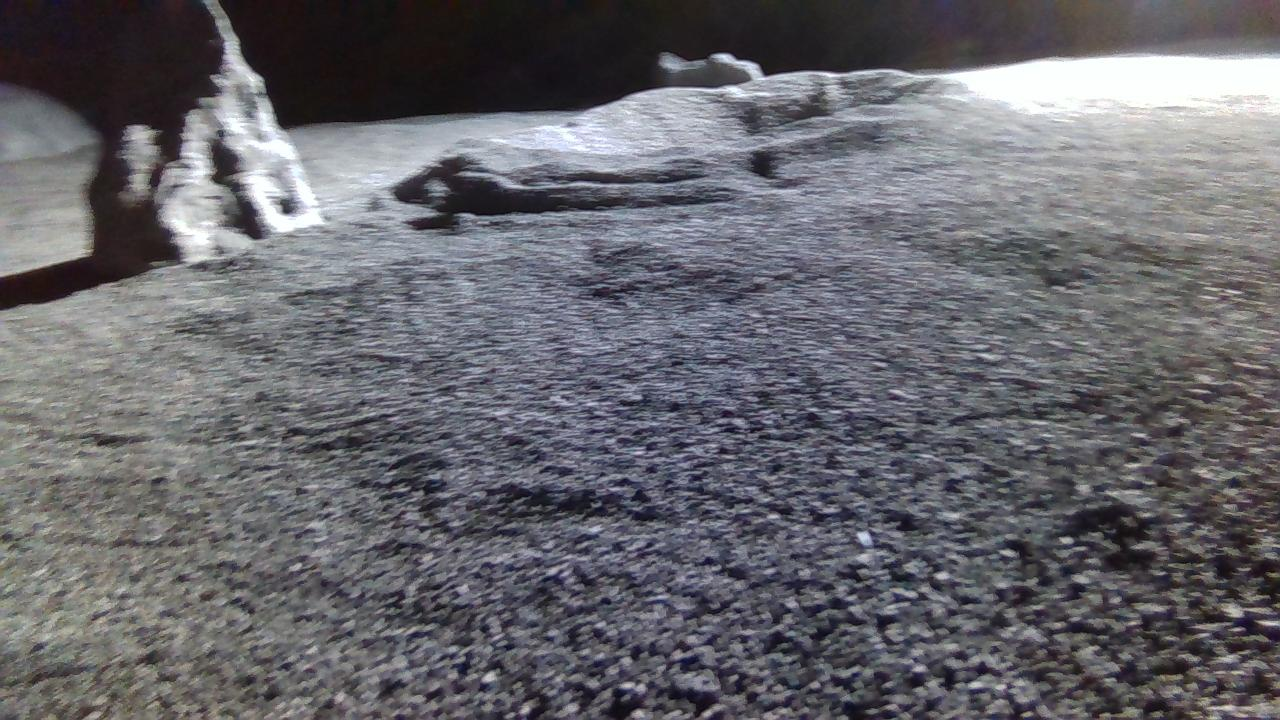rock: (86, 0, 323, 284), (0, 81, 98, 160), (656, 50, 764, 86)
